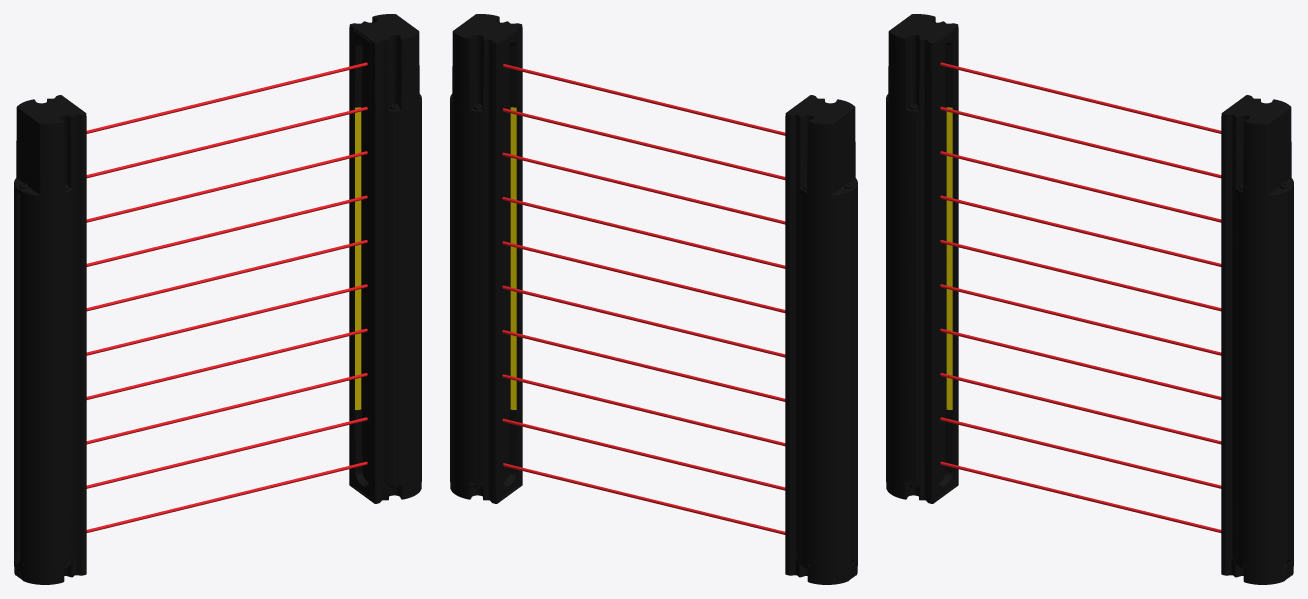
3 renders of one model, left to right at view 1: azimuth 30°, elevation 25°; view 2: azimuth 150°, elevation 25°; view 3: azimuth 330°, elevation 25°, orthographic.
Size of the model in its own units: 283 by 312 by 37.99.
